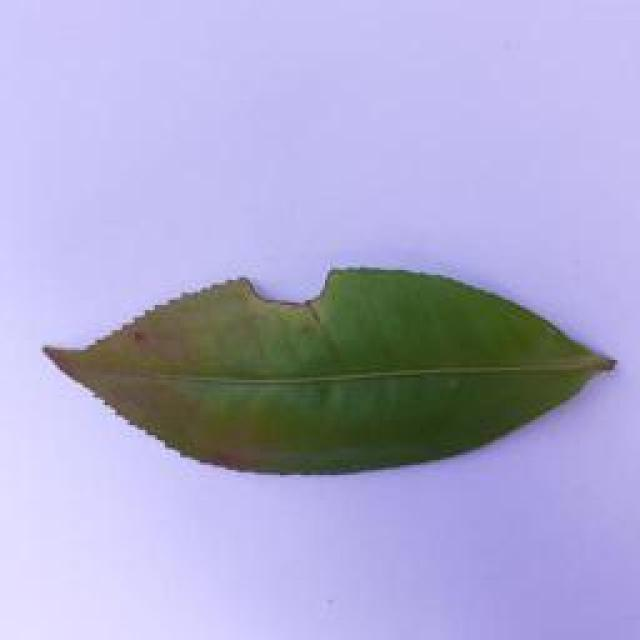Red Leaf Spot: (35, 252, 640, 510)
